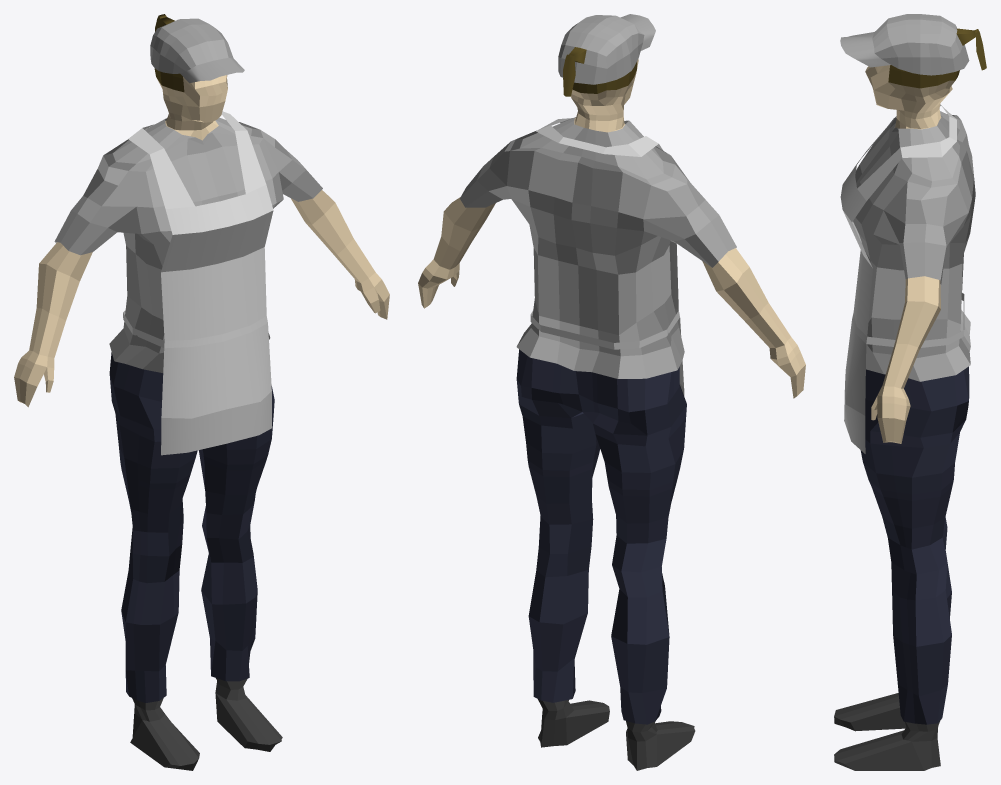
Rendered from Character_F.fbx.
3 renders of one model, left to right at view 1: azimuth 30°, elevation 25°; view 2: azimuth 150°, elevation 25°; view 3: azimuth 270°, elevation 25°, orthographic. The views are drawn at different scales.
Parts seen in each view (by area): view 1: Female_Optimised_Character; view 2: Female_Optimised_Character; view 3: Female_Optimised_Character.
Boxes of the visible parts, x1,y1,x2,y2 form: Female_Optimised_Character: [14, 14, 389, 770]; Female_Optimised_Character: [418, 14, 805, 770]; Female_Optimised_Character: [834, 14, 986, 770].
Bounding box in the file's own units: 83.86 × 154 × 29.52.
